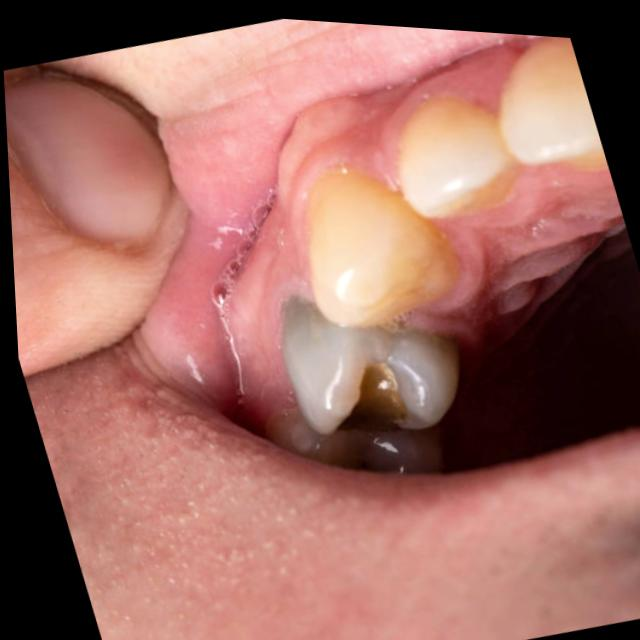cariess: (281, 295, 457, 434), (339, 428, 443, 473)
